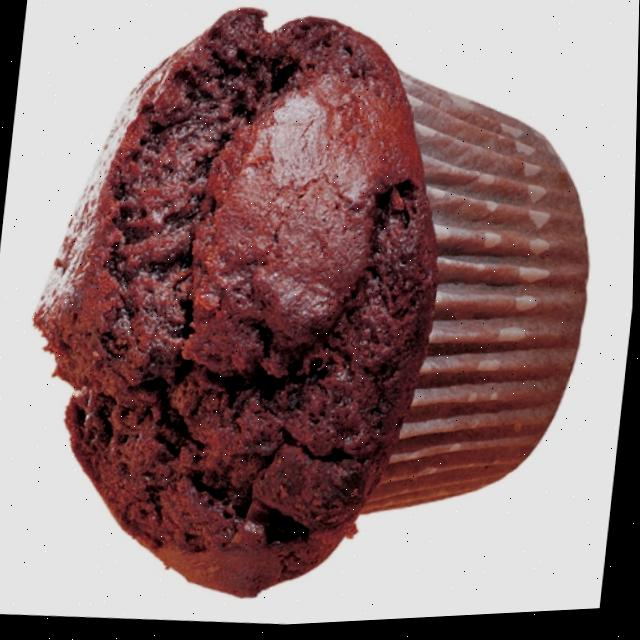炸货点心: (0, 0, 627, 640)
面包点心: (0, 0, 627, 640)
